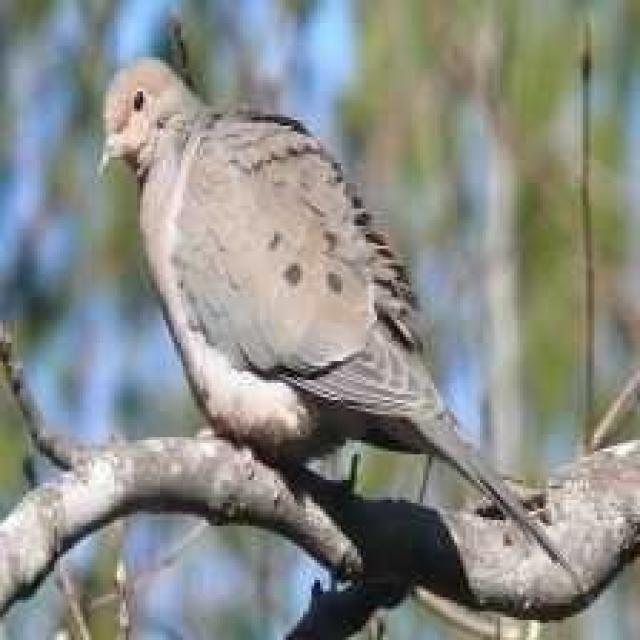bird: (91, 53, 577, 580)
